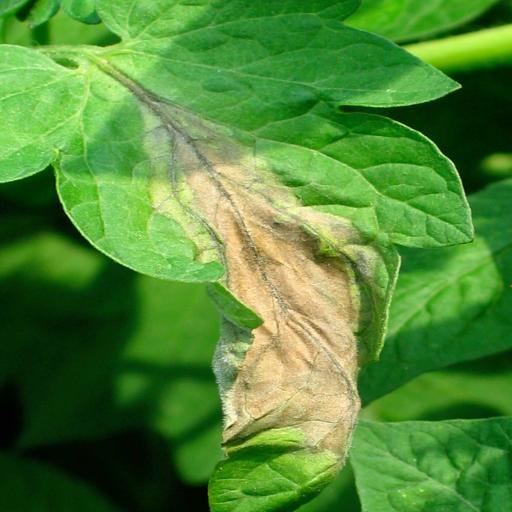Late Blight: (8, 4, 484, 504)
